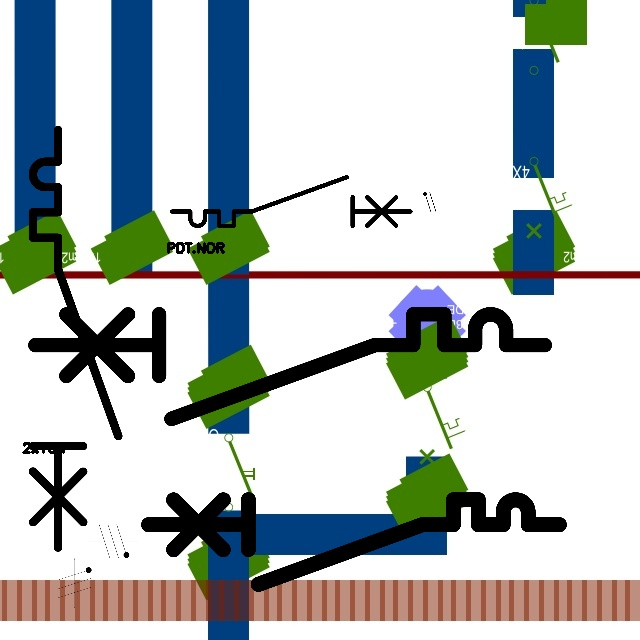interruptor_termomagnetico: (22, 301, 558, 432), (22, 119, 129, 558), (137, 489, 569, 595), (166, 171, 417, 232)
